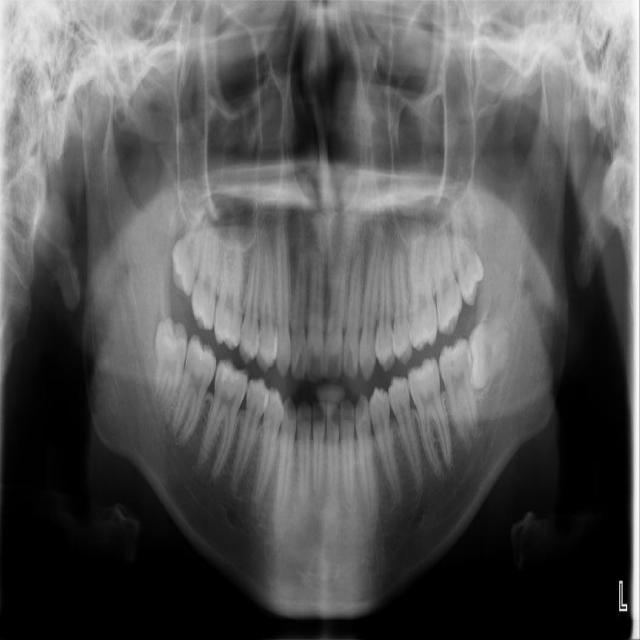3M ESPE Implant: (166, 203, 209, 296)
73: (602, 595, 608, 610)
BioHorizons Implant: (422, 198, 468, 336)
BioLife Implant: (446, 199, 489, 307)
Biomet 3i Implant: (459, 310, 515, 396)
Blue Sky Bio Implant: (436, 334, 481, 453)
Caries: (188, 203, 228, 331)
Implant: (167, 333, 223, 449)
Keystone Dental Implant: (152, 317, 188, 415)
